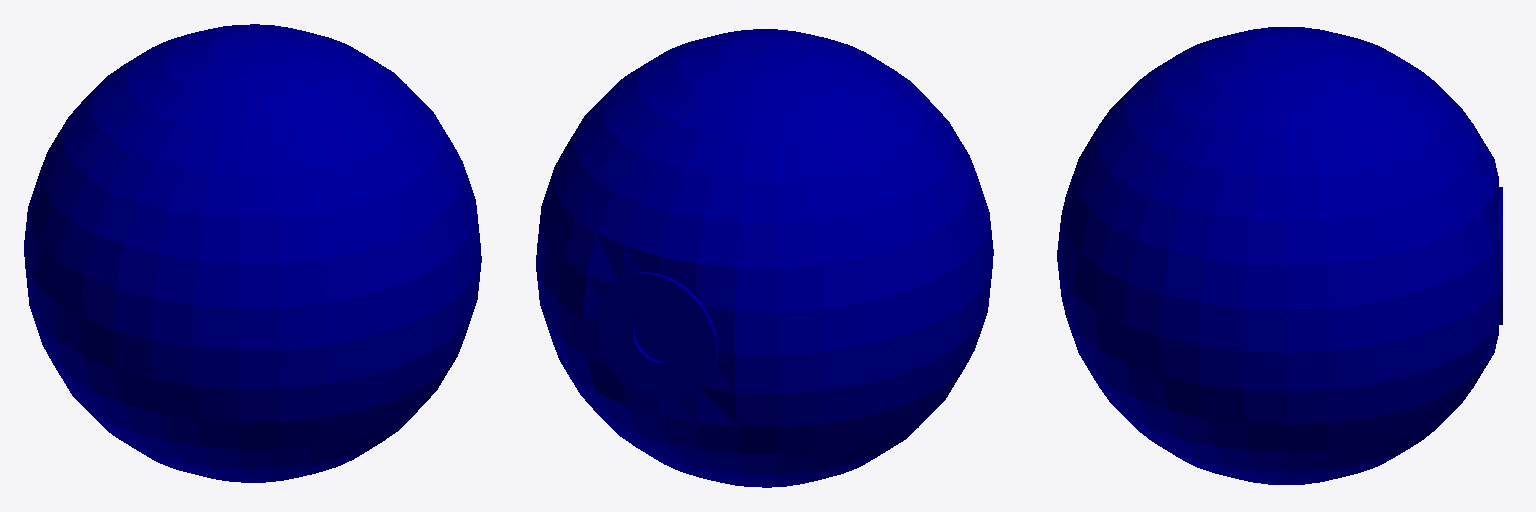
The model's file is Enemy.obj.
The picture shows the model from 3 angles: view 1: azimuth 30°, elevation 25°; view 2: azimuth 150°, elevation 25°; view 3: azimuth 270°, elevation 25°; orthographic projection.
Parts seen in each view (by area): view 1: Sphere; view 2: Sphere; view 3: Sphere.
Part boxes in pixels (left/top/right/bottom): Sphere: left=24, top=24, right=481, bottom=482; Sphere: left=536, top=29, right=993, bottom=487; Sphere: left=1057, top=27, right=1502, bottom=484.
Size of the model in its own units: 2 by 2 by 1.94.